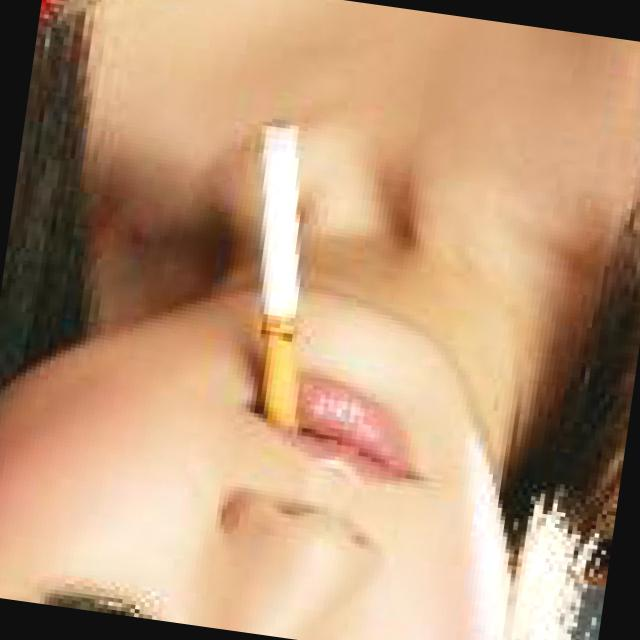smoke: (222, 112, 346, 428)
